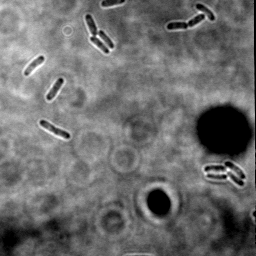Dividing: (38, 118, 71, 142), (164, 13, 206, 31)
Microcolony: (203, 159, 247, 189)
Rod: (22, 54, 45, 77), (44, 77, 65, 102), (194, 2, 216, 22), (88, 36, 110, 55), (83, 12, 99, 37), (97, 29, 115, 50)
